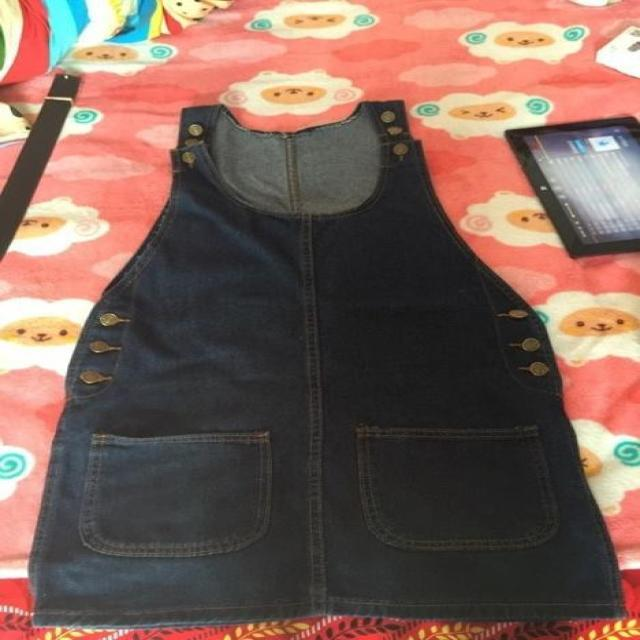sling dress: (29, 100, 629, 629)
